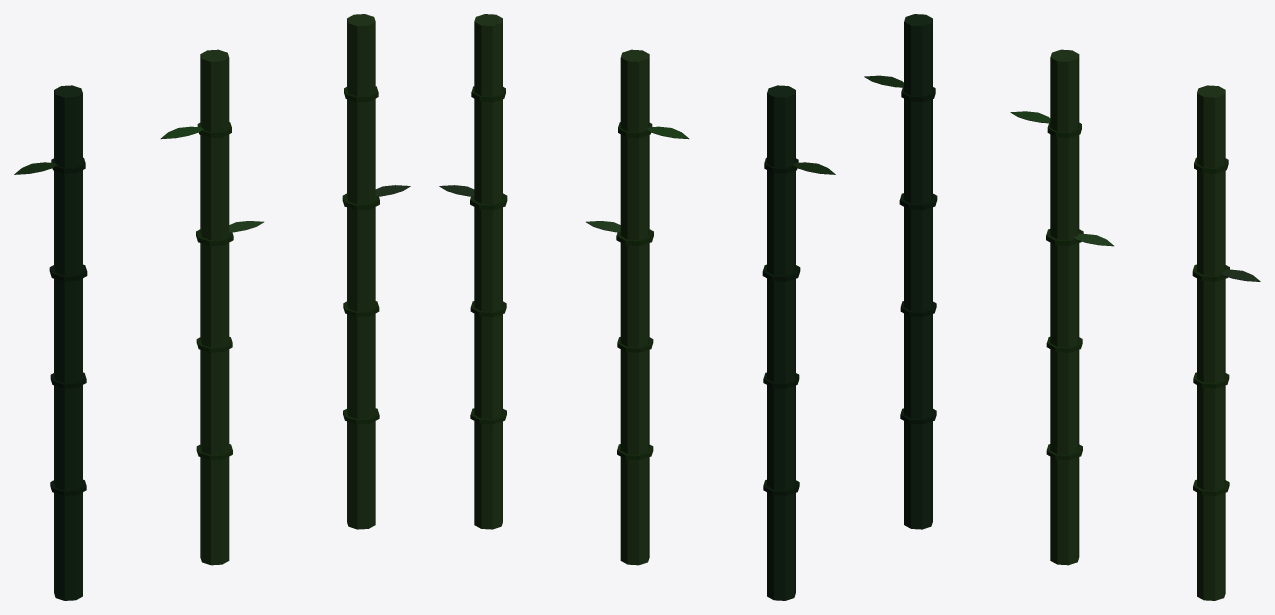
The model's file is bamboo.fbx.
3 views of the same model, side by side, from view 1: azimuth 30°, elevation 25°; view 2: azimuth 150°, elevation 25°; view 3: azimuth 330°, elevation 25° (orthographic).
Visible parts, largest first — view 1: pCube6, pCube5, pCylinder4; view 2: pCube6, pCube5, pCylinder4; view 3: pCube6, pCube5, pCylinder4.
Part boxes in pixels (bbox=[...]): pCube6: bbox=[160, 49, 263, 565]; pCube5: bbox=[14, 85, 87, 600]; pCylinder4: bbox=[342, 14, 410, 529]; pCube6: bbox=[586, 49, 689, 565]; pCube5: bbox=[762, 85, 835, 600]; pCylinder4: bbox=[439, 14, 507, 529]; pCube6: bbox=[1010, 49, 1113, 565]; pCube5: bbox=[864, 14, 937, 529]; pCylinder4: bbox=[1192, 85, 1260, 600].
Bounding box in the file's own units: 15.7 × 19.06 × 1.33.
